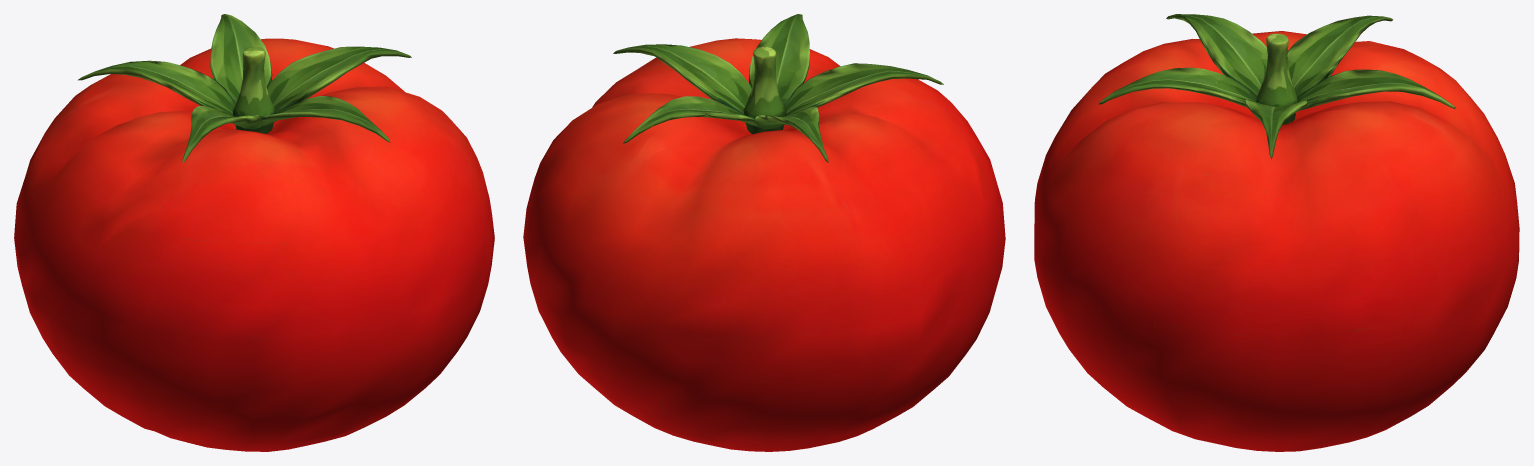
The model's file is 3a14ead5-1b22-429f-8709-ac9080f04174.glb.
3 renders of one model, left to right at view 1: azimuth 30°, elevation 25°; view 2: azimuth 150°, elevation 25°; view 3: azimuth 270°, elevation 25°, orthographic. The views are drawn at different scales.
Parts seen in each view (by area): view 1: Mesh_0; view 2: Mesh_0; view 3: Mesh_0.
Boxes of the visible parts, left/top/right/bottom form: Mesh_0: left=14, top=14, right=494, bottom=451; Mesh_0: left=523, top=14, right=1005, bottom=451; Mesh_0: left=1034, top=14, right=1519, bottom=451.
Size of the model in its own units: 0.0679 by 0.06 by 0.0679.
Materials: 1 (1 with a texture image).
